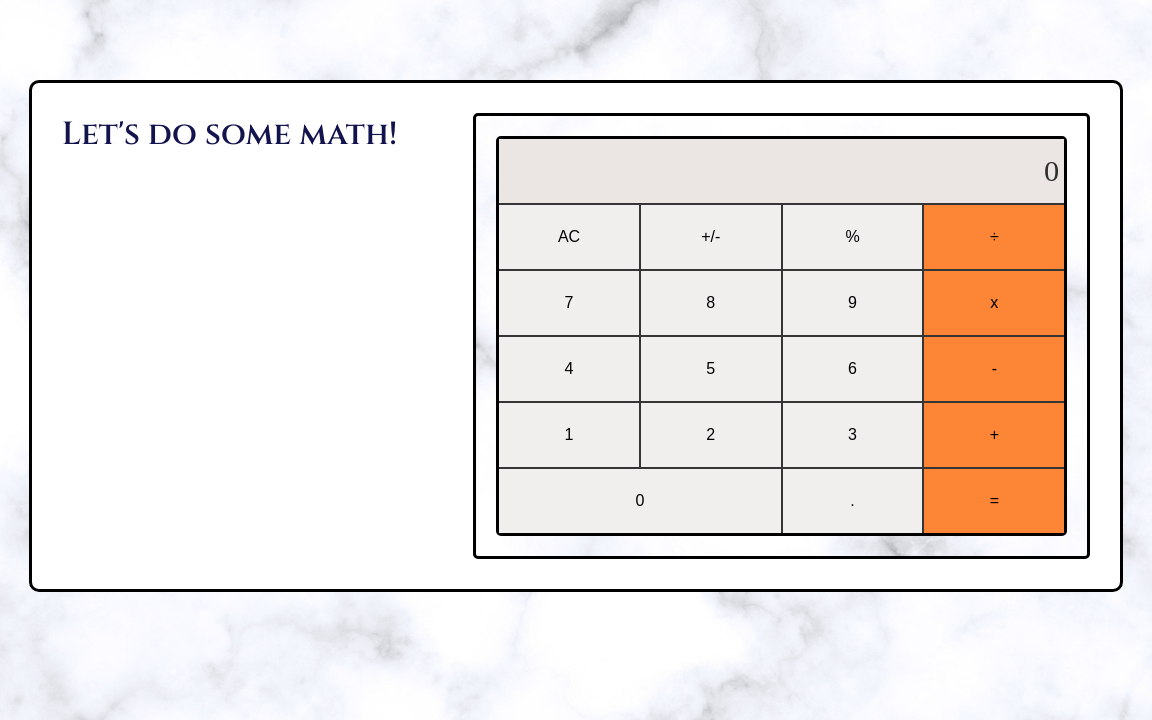
Test: Testing for changes in calculator display on button press › Clicking a button should update the display
Click the button "2": (711, 435) top-left (641, 403), bottom-right (781, 467)
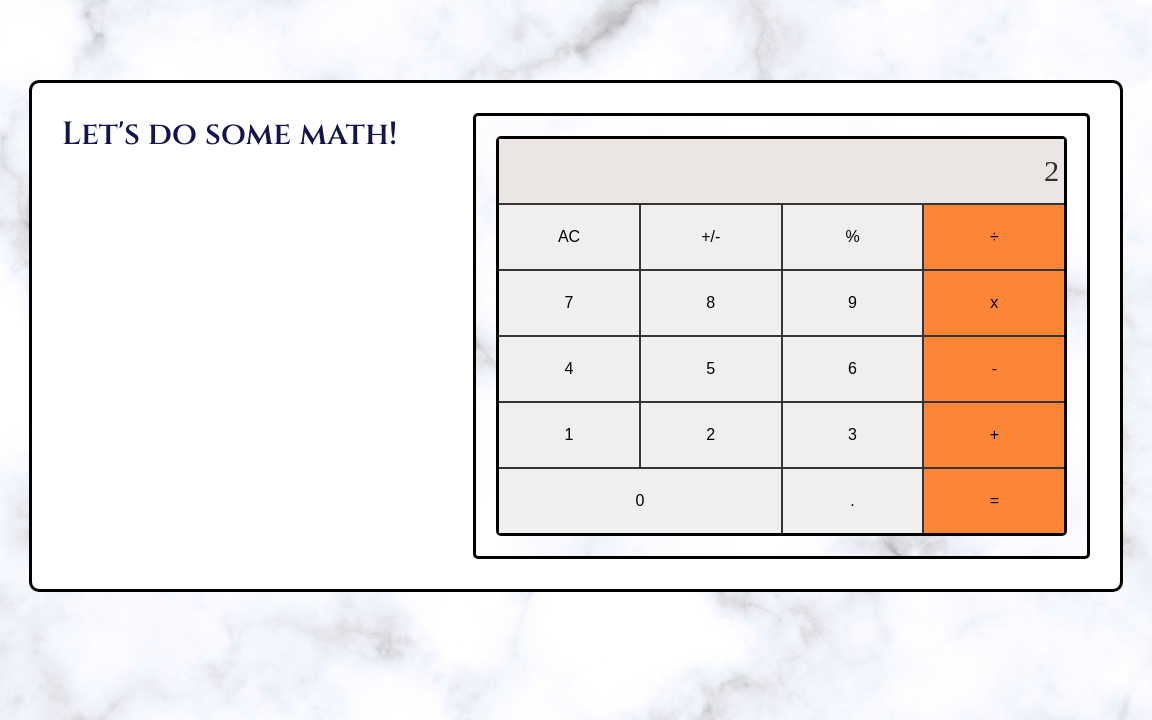
Result: the text with test id "display" reads "2" at top-left (1044, 154), bottom-right (1059, 188)
